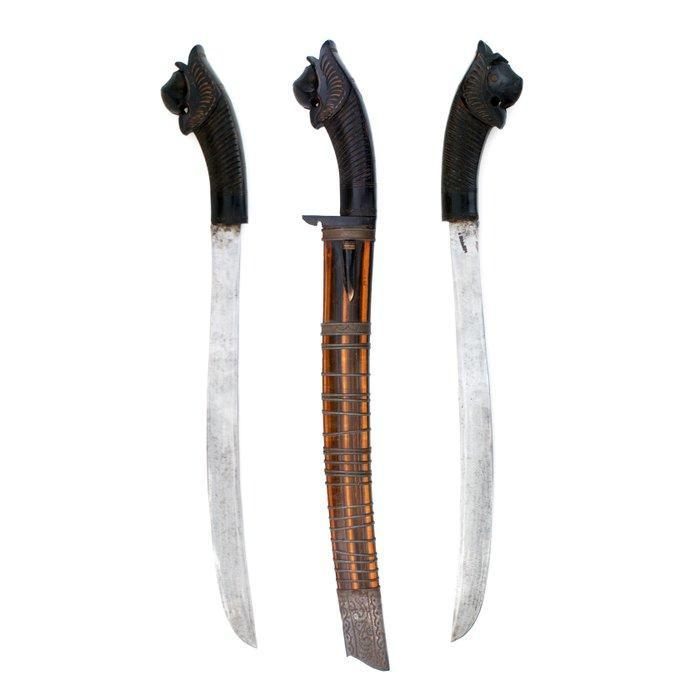espada: (289, 37, 408, 681), (156, 32, 266, 641), (422, 44, 532, 638)
